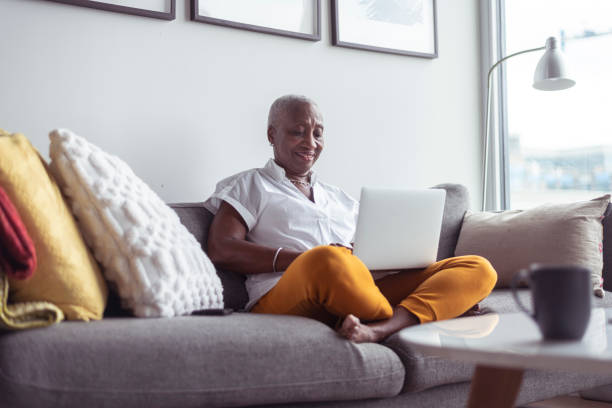without mask: (266, 91, 342, 198)
